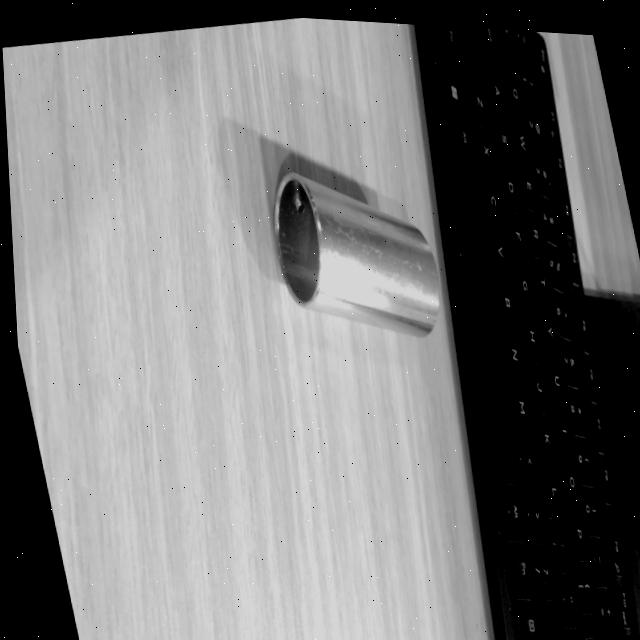Co_Lon: (237, 167, 468, 358)
